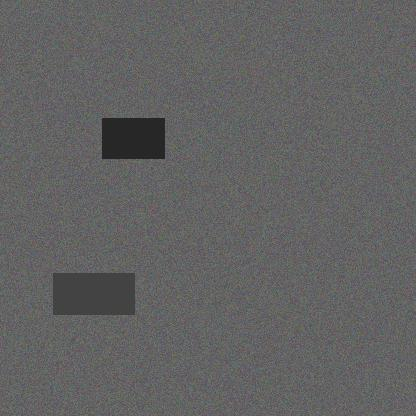empty: (218, 216, 284, 298), (133, 125, 216, 184)
